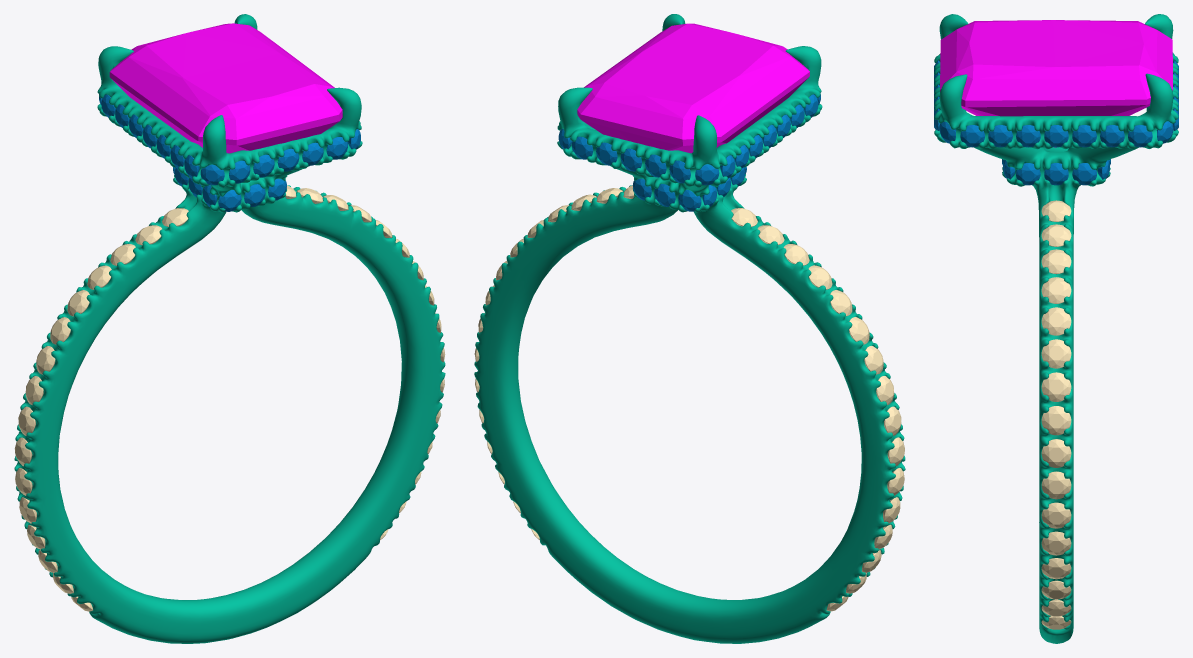
Rendered from BE1D6362P_RA_200ct_RENDER.glb.
The picture shows the model from 3 angles, left to right: view 1: azimuth 30°, elevation 25°; view 2: azimuth 150°, elevation 25°; view 3: azimuth 270°, elevation 25°; orthographic projection.
Visible parts, largest first — view 1: Metal 01, CS_Diamond_Radiant; view 2: Metal 01, CS_Diamond_Radiant; view 3: CS_Diamond_Radiant, Metal 01, Diamond_Round_Gem_SH.022, Diamond_Round_Gem_SH.023, Diamond_Round_Gem_SH.021, Diamond_Round_Gem_SH.024, Diamond_Round_Gem_SH.020, Diamond_Round_Gem_SH.025, Diamond_Round_Gem_SH.019, Diamond_Round_Gem_SH.026, Diamond_Round_Gem_SH.018, Diamond_Round_Gem_SH.027 (+14 smaller).
Part boxes in pixels (x1=…): Metal 01: x1=14, y1=14, x2=445, y2=643; CS_Diamond_Radiant: x1=109, y1=23, x2=342, y2=153; Metal 01: x1=474, y1=14, x2=905, y2=643; CS_Diamond_Radiant: x1=577, y1=23, x2=809, y2=153; CS_Diamond_Radiant: x1=940, y1=20, x2=1172, y2=147; Metal 01: x1=934, y1=14, x2=1178, y2=643; Diamond_Round_Gem_SH.022: x1=1041, y1=372, x2=1071, y2=401; Diamond_Round_Gem_SH.023: x1=1041, y1=406, x2=1071, y2=435; Diamond_Round_Gem_SH.021: x1=1041, y1=339, x2=1071, y2=368; Diamond_Round_Gem_SH.024: x1=1041, y1=439, x2=1071, y2=467; Diamond_Round_Gem_SH.020: x1=1041, y1=307, x2=1071, y2=335; Diamond_Round_Gem_SH.025: x1=1041, y1=471, x2=1071, y2=499; Diamond_Round_Gem_SH.019: x1=1041, y1=277, x2=1071, y2=303; Diamond_Round_Gem_SH.026: x1=1041, y1=502, x2=1071, y2=528; Diamond_Round_Gem_SH.018: x1=1041, y1=249, x2=1071, y2=274; Diamond_Round_Gem_SH.027: x1=1041, y1=531, x2=1071, y2=555.
Size of the model in its own units: 19.99 by 25.83 by 9.93.
